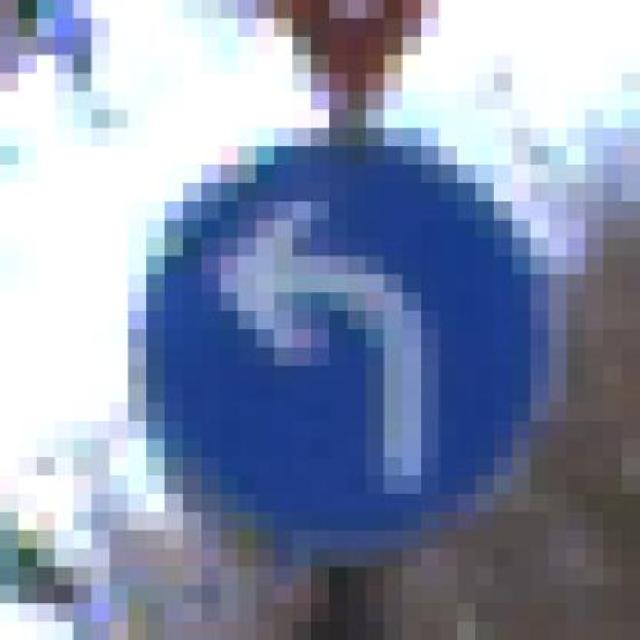Turn left ahead: (91, 110, 567, 548)
